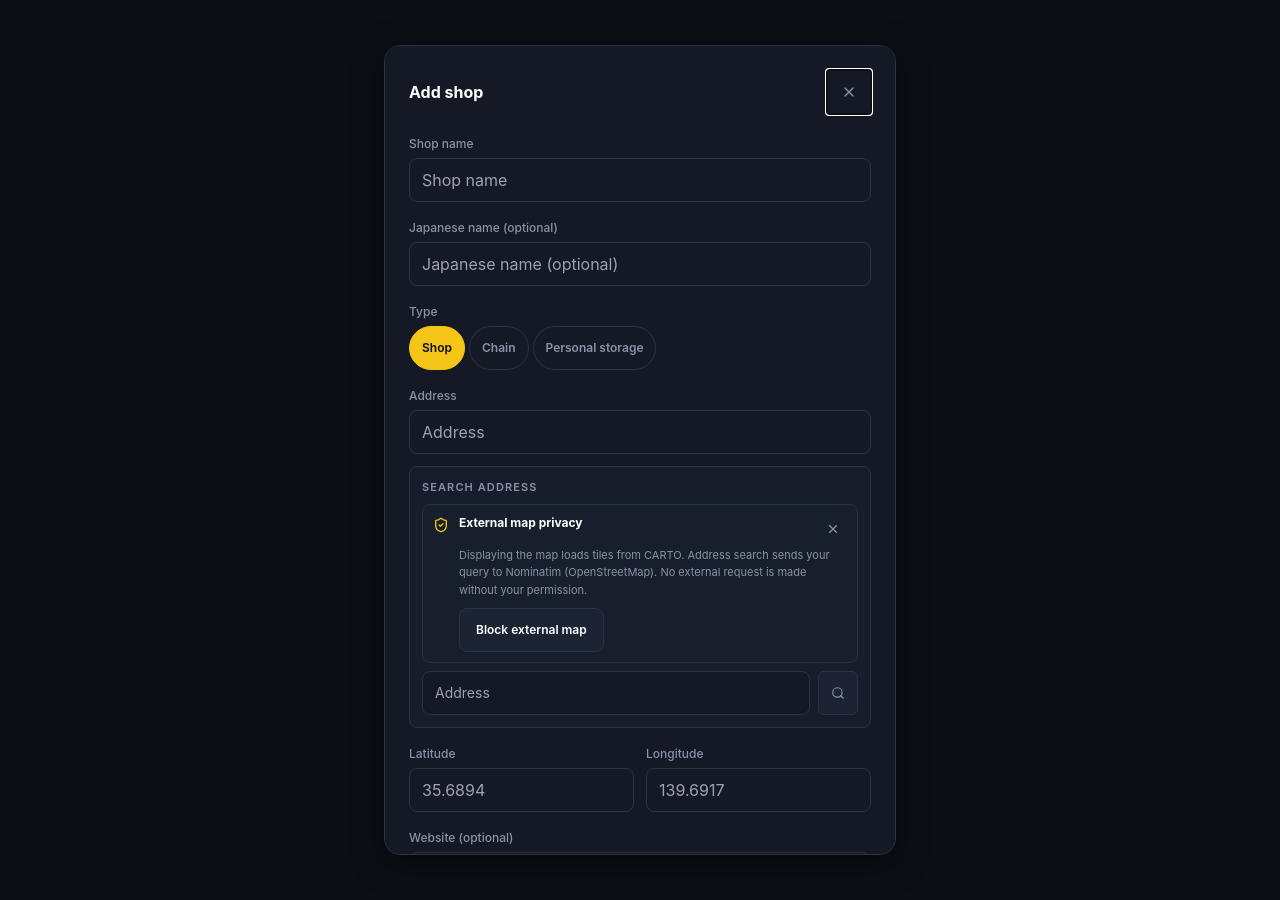
AddEditPlaceModal branches › geocodes successfully and fills coordinates from a picked result
Type "Shibuya" into the field with placeholder "Address" below "External map privacy" at (616,693), box top-left (422, 671), bottom-right (810, 715)
Then press Enter
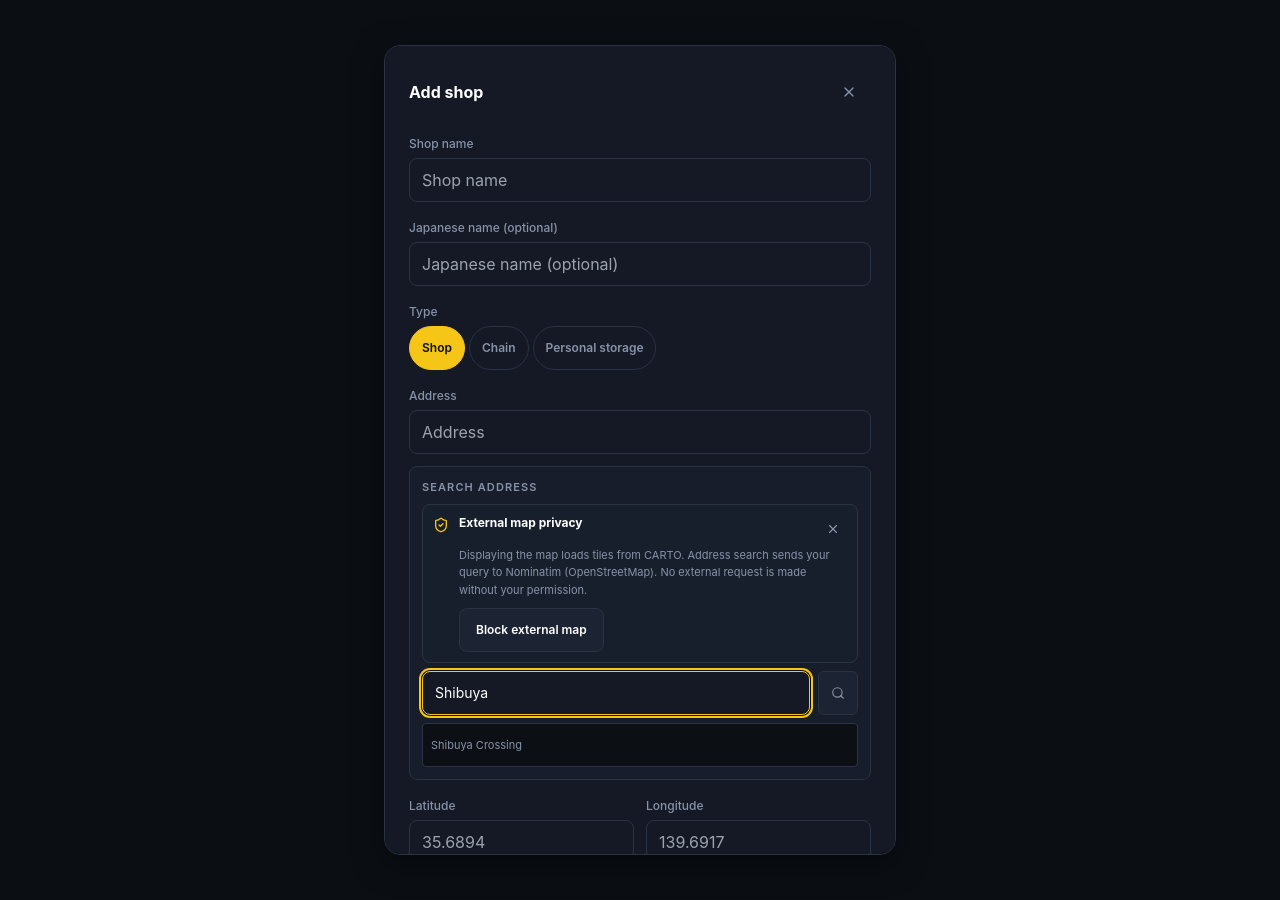
Click the button "Shibuya Crossing" at (476,745), box top-left (422, 723), bottom-right (858, 767)
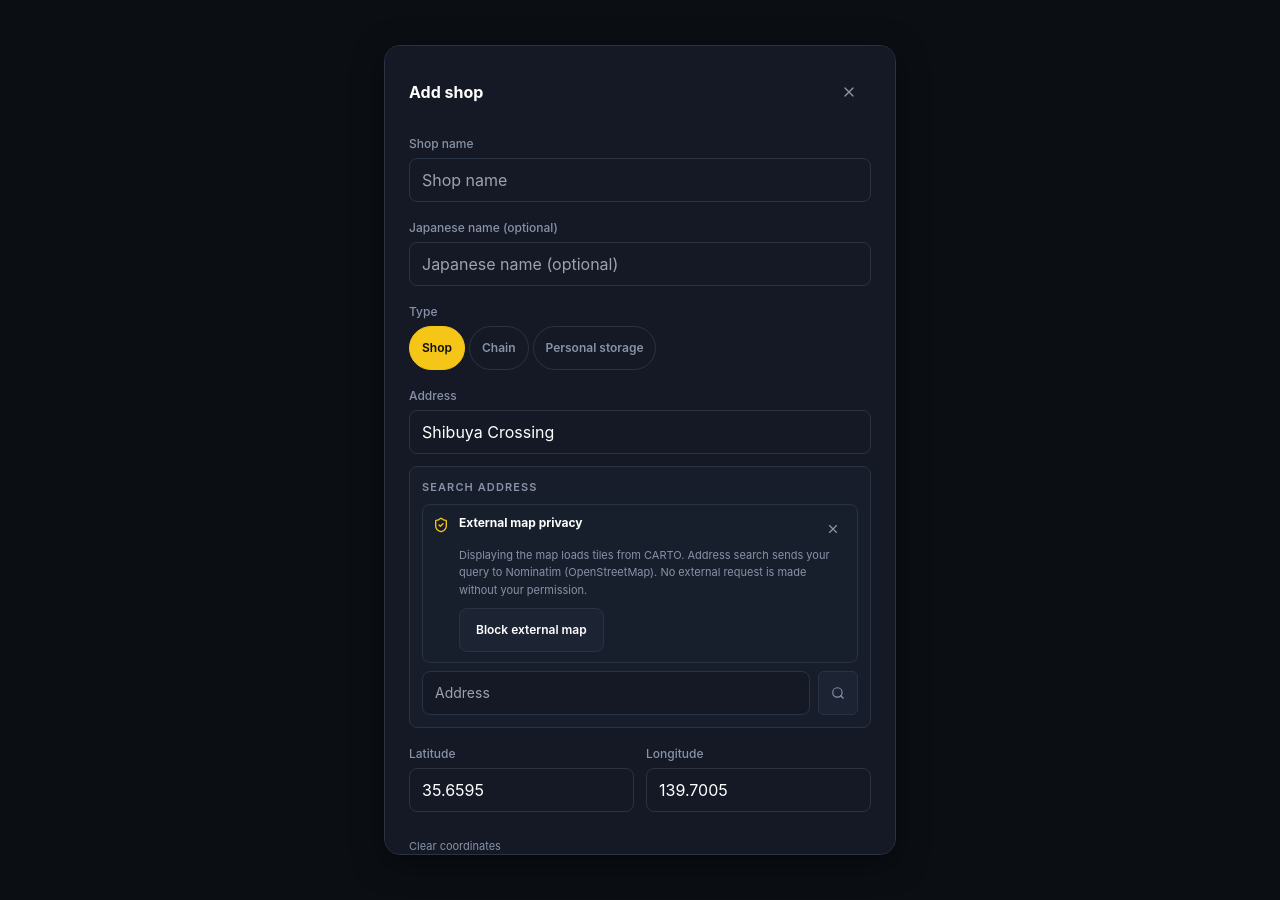
Expected: the number field with placeholder "35.6894" below "Latitude" holds "35.6595", top-left (409, 768), bottom-right (634, 812)
Expected: the number field with placeholder "139.6917" below "Longitude" holds "139.7005", top-left (646, 768), bottom-right (871, 812)
Expected: the field with placeholder "Address" holds "Shibuya Crossing", top-left (409, 410), bottom-right (871, 454)
